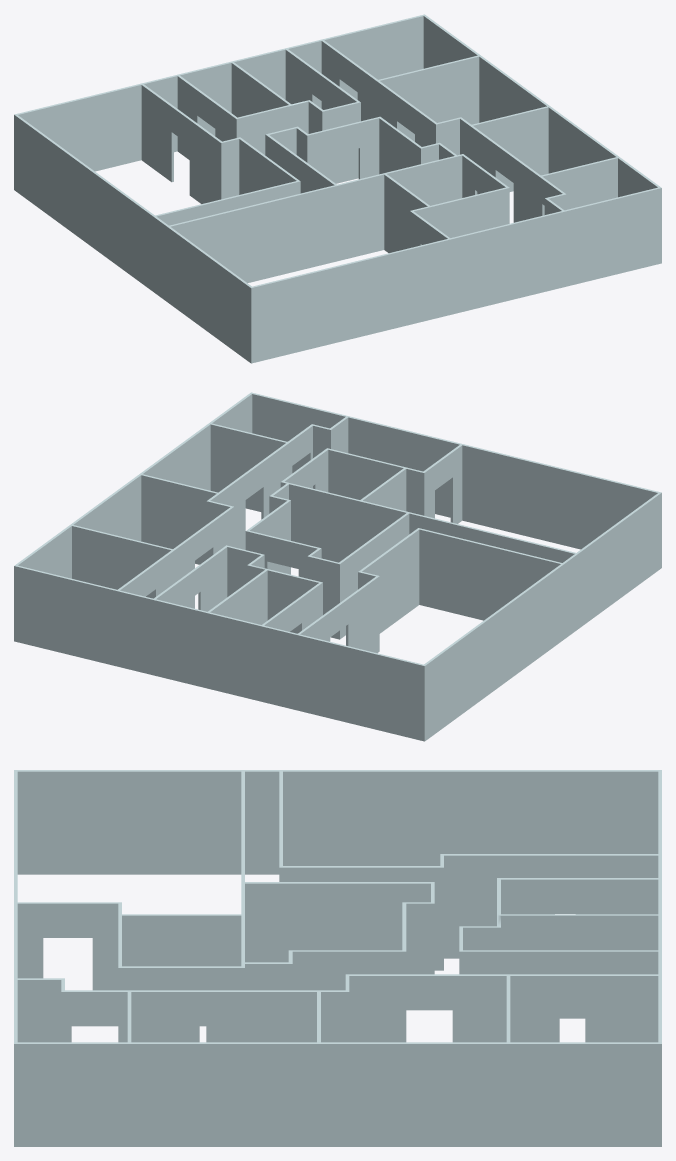
The model's file is floorplan82.dae.
The picture shows the model from 3 angles, top to bottom: view 1: azimuth 30°, elevation 25°; view 2: azimuth 150°, elevation 25°; view 3: azimuth 270°, elevation 25°; orthographic projection. The views are drawn at different scales.
Visible parts, largest first — view 1: FloorBoundary, Room_5, Room_2, Room_0, Room_9, Room_4, Room_1, Room_3, Room_6, Room_8, Room_7; view 2: FloorBoundary, Room_2, Room_5, Room_0, Room_3, Room_1, Room_9, Room_6, Room_8, Room_7, Room_4; view 3: FloorBoundary, Room_2, Room_5, Room_3, Room_1, Room_0, Room_9, Room_4, Room_6, Room_7, Room_8.
Boxes of the visible parts, left/top/right/bottom form: FloorBoundary: left=14, top=15, right=660, bottom=361; Room_5: left=166, top=173, right=451, bottom=363; Room_2: left=14, top=83, right=300, bottom=291; Room_0: left=321, top=14, right=480, bottom=141; Room_9: left=265, top=116, right=458, bottom=261; Room_4: left=539, top=157, right=661, bottom=287; Room_1: left=469, top=106, right=617, bottom=222; Room_3: left=375, top=55, right=550, bottom=191; Room_6: left=177, top=61, right=291, bottom=159; Room_8: left=231, top=48, right=360, bottom=183; Room_7: left=384, top=154, right=509, bottom=252; FloorBoundary: left=14, top=393, right=660, bottom=740; Room_2: left=296, top=528, right=564, bottom=741; Room_5: left=359, top=443, right=661, bottom=629; Room_0: left=14, top=525, right=175, bottom=666; Room_3: left=72, top=474, right=234, bottom=608; Room_1: left=139, top=423, right=289, bottom=549; Room_9: left=245, top=482, right=410, bottom=639; Room_6: left=206, top=568, right=322, bottom=701; Room_8: left=152, top=545, right=267, bottom=687; Room_7: left=280, top=448, right=407, bottom=557; Room_4: left=210, top=392, right=348, bottom=488; FloorBoundary: left=14, top=770, right=661, bottom=1146; Room_2: left=279, top=770, right=661, bottom=970; Room_5: left=14, top=770, right=244, bottom=990; Room_3: left=317, top=974, right=510, bottom=1146; Room_1: left=127, top=990, right=320, bottom=1146; Room_0: left=506, top=974, right=661, bottom=1146; Room_9: left=241, top=882, right=434, bottom=1042; Room_4: left=14, top=978, right=131, bottom=1146; Room_6: left=497, top=878, right=661, bottom=1018; Room_7: left=118, top=914, right=244, bottom=1042; Room_8: left=459, top=914, right=661, bottom=1042.
Size of the model in its own units: 17.1 by 17.1 by 3.
